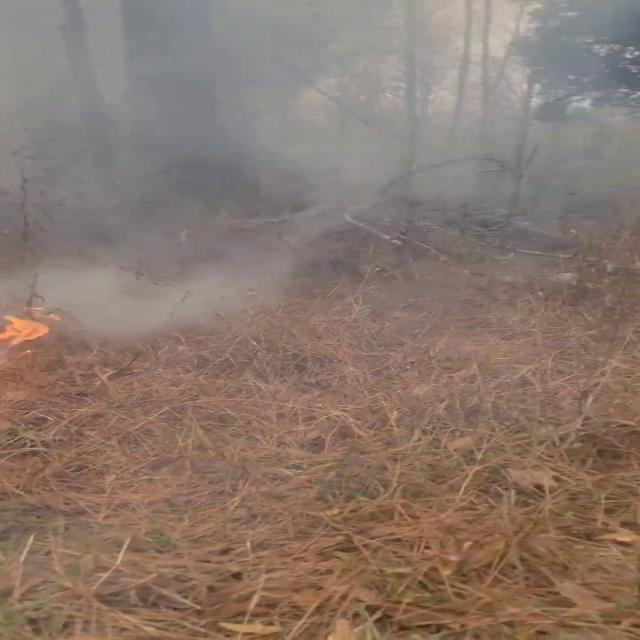Fire: (0, 295, 69, 360)
Smoke: (0, 0, 621, 363)
